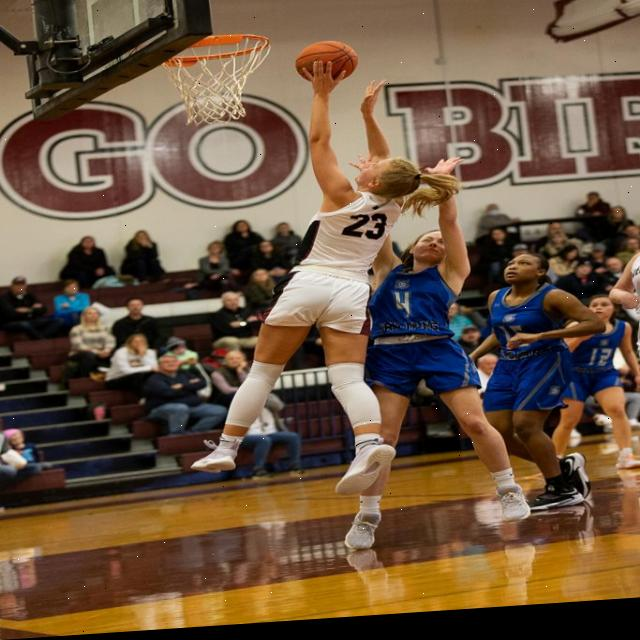basketball: (295, 39, 359, 84)
hoop: (160, 31, 271, 129)
